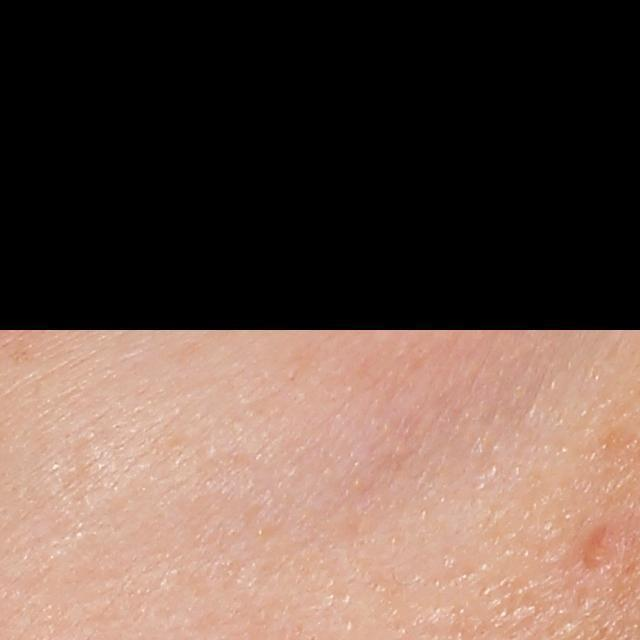papule: (573, 518, 618, 574)
